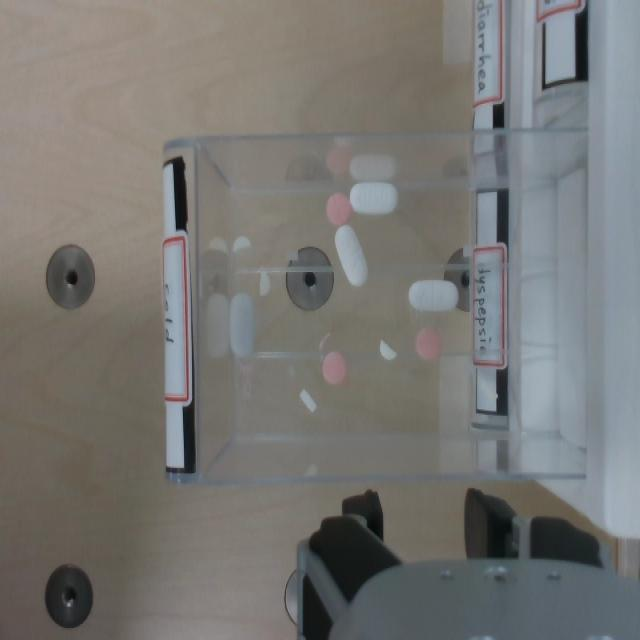amoxicle_tab: (335, 225, 367, 285), (408, 280, 458, 312), (229, 293, 254, 357), (350, 181, 397, 215)
panstar_tab: (329, 191, 354, 226), (415, 328, 440, 359), (322, 352, 346, 384)
sudafed_tab: (299, 389, 316, 412), (379, 340, 396, 360), (232, 236, 250, 252), (259, 271, 270, 295)
